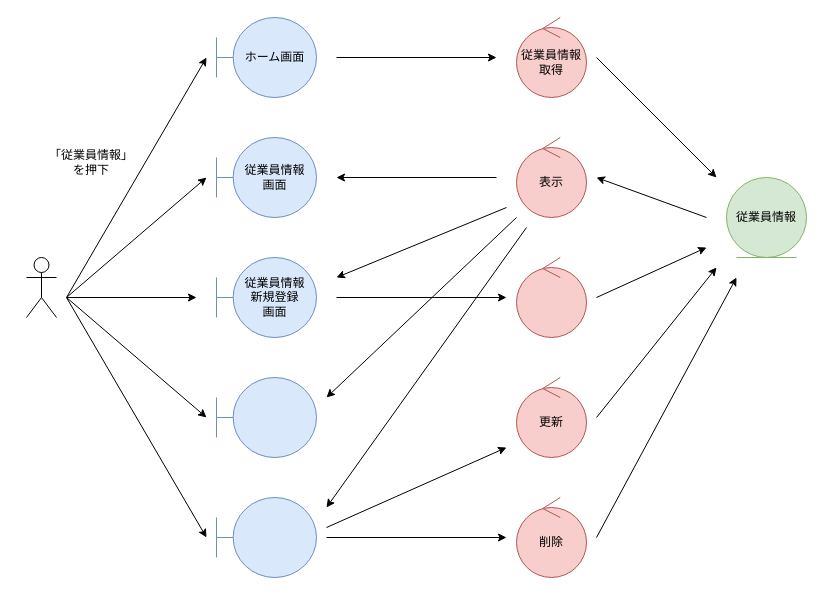
This 824x595 diagram has some shape labels left out. Each missing label, with the centre of its shape:
従業員情報 編集画面: point 266,537
従業員情報 詳細画面: point 266,417
登録: point 551,297
管理者 正規社員: point 41,287
